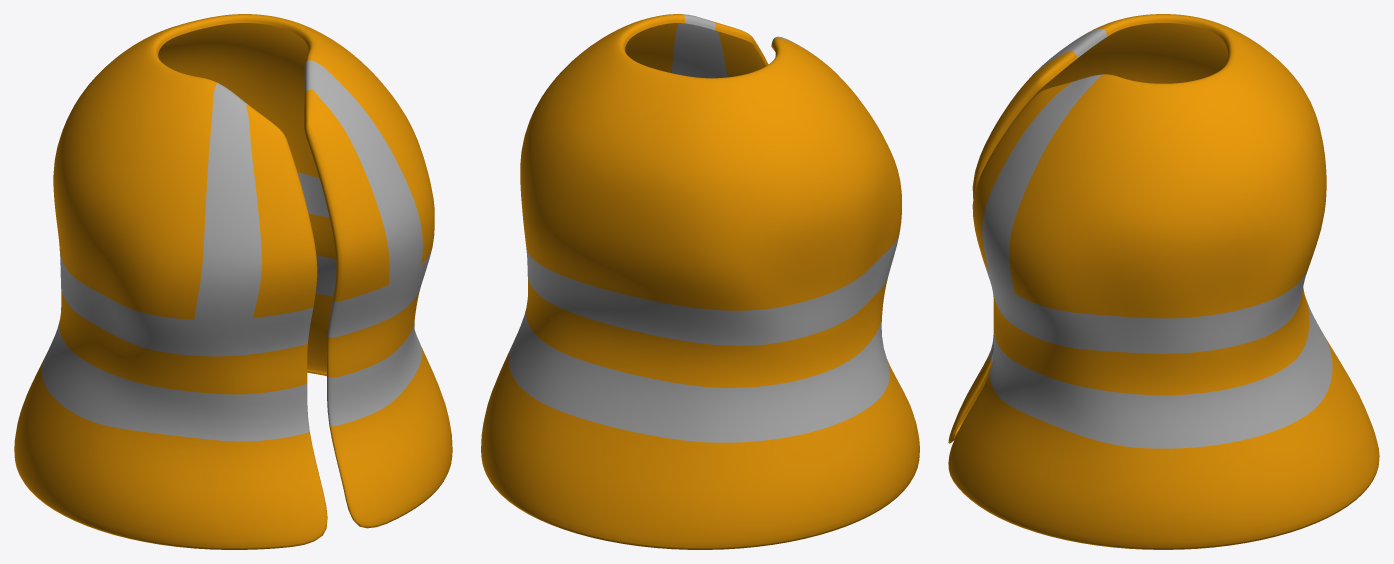
The model's file is Female_High_Vis.fbx.
3 views of the same model, side by side, from view 1: azimuth 30°, elevation 25°; view 2: azimuth 150°, elevation 25°; view 3: azimuth 270°, elevation 25° (orthographic).
Visible parts, largest first — view 1: Female_High_Vis_Smooth; view 2: Female_High_Vis_Smooth; view 3: Female_High_Vis_Smooth.
Part boxes in pixels (left/top/right/bottom): Female_High_Vis_Smooth: left=14, top=14, right=452, bottom=549; Female_High_Vis_Smooth: left=481, top=14, right=919, bottom=549; Female_High_Vis_Smooth: left=948, top=14, right=1379, bottom=549.
Bounding box in the file's own units: 2.09 × 2.16 × 2.06.
